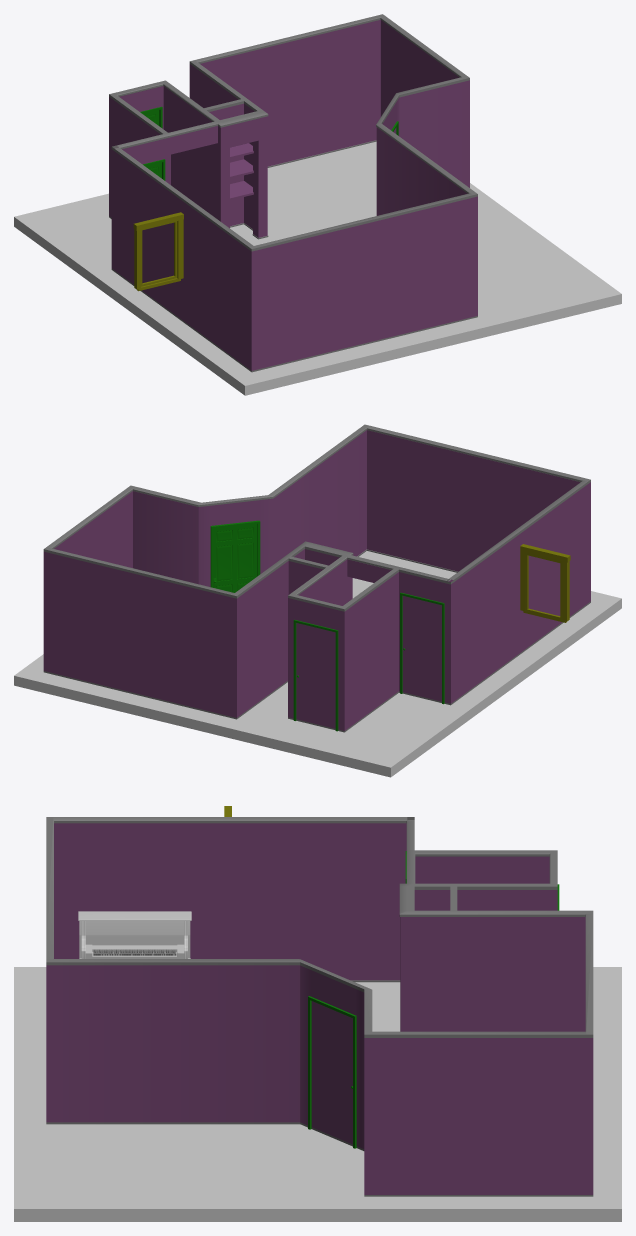
File: FloorPlan208.fbx
3 views of the same model, one above another, from view 1: azimuth 30°, elevation 25°; view 2: azimuth 150°, elevation 25°; view 3: azimuth 270°, elevation 25° (orthographic). The views are drawn at different scales.
Parts seen in each view (by area): view 1: StandardWallSize, Floor, WindowTreatment1; view 2: StandardWallSize, Floor, StandardDoor1 (3), WindowTreatment1, StandardDoorFrame1 (2), StandardDoorFrame1, StandardWindow1, StandardDoorFrame1 (3); view 3: StandardWallSize, Floor, Piano, StandardDoorFrame1 (3).
Boxes of the visible parts, box(x1,y1,x2,y2) form: StandardWallSize: box(109, 14, 477, 372); Floor: box(14, 141, 621, 395); WindowTreatment1: box(133, 212, 183, 289); StandardWallSize: box(43, 424, 590, 732); Floor: box(14, 551, 621, 777); StandardDoor1 (3): box(213, 524, 257, 592); WindowTreatment1: box(520, 544, 570, 621); StandardDoorFrame1 (2): box(293, 619, 338, 731); StandardDoorFrame1: box(400, 592, 444, 704); StandardWindow1: box(525, 552, 562, 620); StandardDoorFrame1 (3): box(210, 520, 260, 587); StandardWallSize: box(46, 817, 593, 1196); Floor: box(14, 967, 621, 1221); Piano: box(78, 911, 191, 958); StandardDoorFrame1 (3): box(308, 996, 356, 1148).
Bounding box in the file's own units: 860 × 270 × 850.
